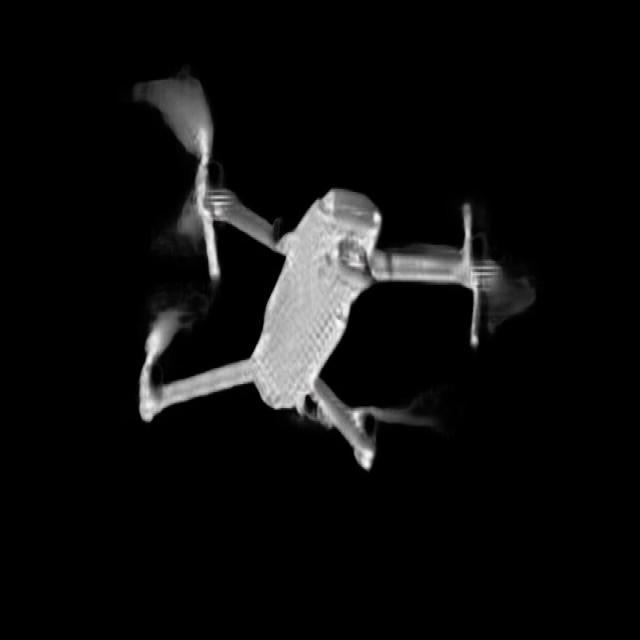drone: (112, 57, 539, 478)
